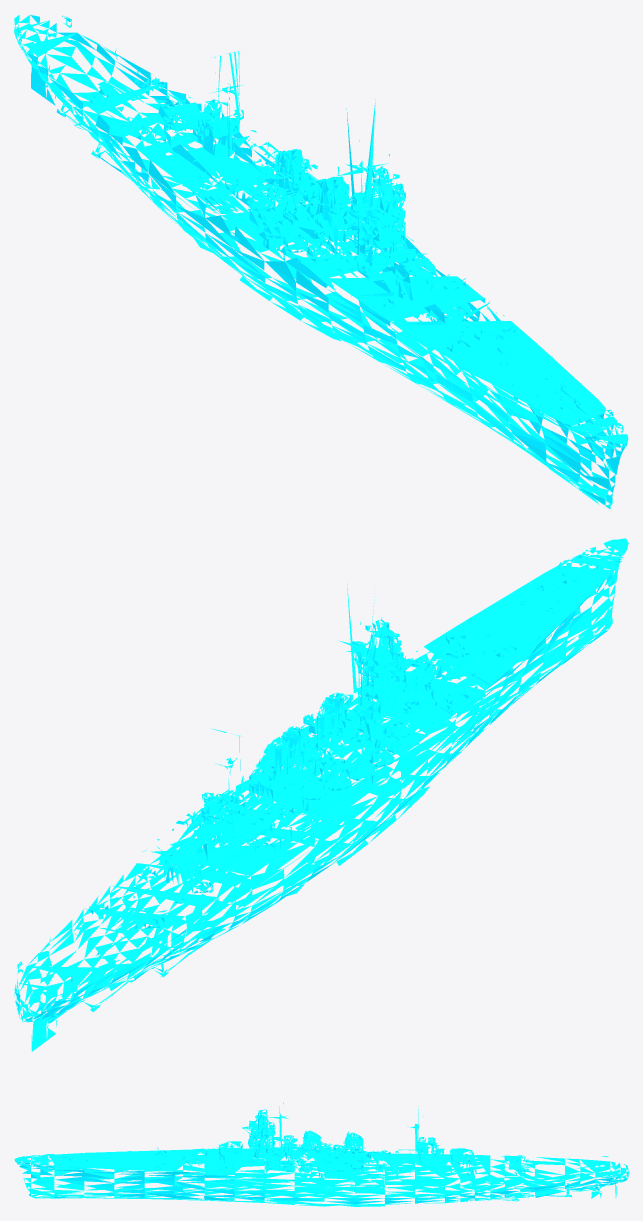
File: Messina.glb
3 renders of one model, top to bottom at view 1: azimuth 30°, elevation 25°; view 2: azimuth 150°, elevation 25°; view 3: azimuth 270°, elevation 25°, orthographic. The views are drawn at different scales.
Size of the model in its own units: 1.58 by 3.03 by 14.58.
